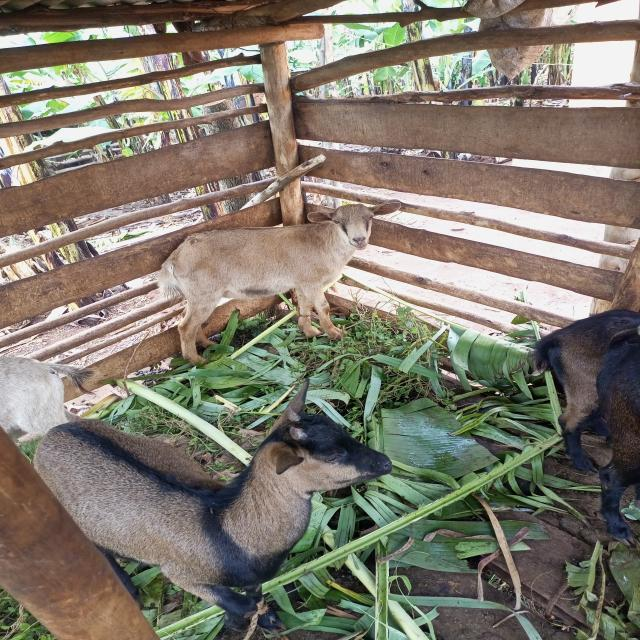goat: (97, 178, 438, 375)
